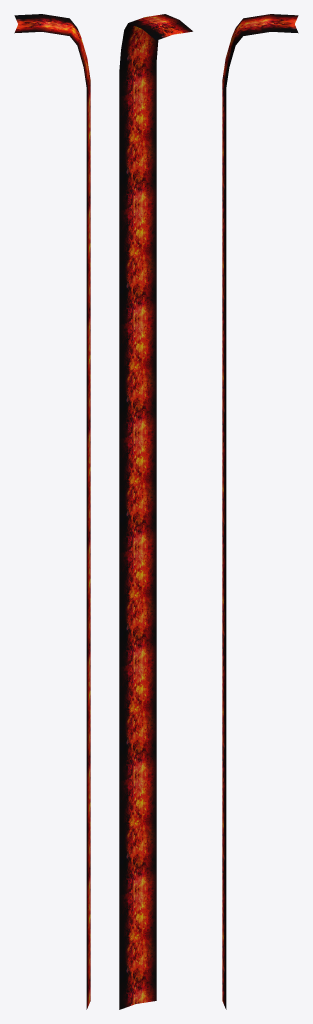
File: S_Rock_Red059_Effect.FBX
3 views of the same model, side by side, from view 1: azimuth 90°, elevation 25°; view 2: azimuth 210°, elevation 25°; view 3: azimuth 270°, elevation 25° (orthographic).
Visible parts, largest first — view 1: S_Rock_Red059_Effect; view 2: S_Rock_Red059_Effect; view 3: S_Rock_Red059_Effect.
Part boxes in pixels (x1,y1,x2,y2): S_Rock_Red059_Effect: (14, 14, 90, 1009); S_Rock_Red059_Effect: (119, 14, 192, 1009); S_Rock_Red059_Effect: (222, 14, 298, 1009).
Bounding box in the file's own units: 237 × 427 × 6051.
